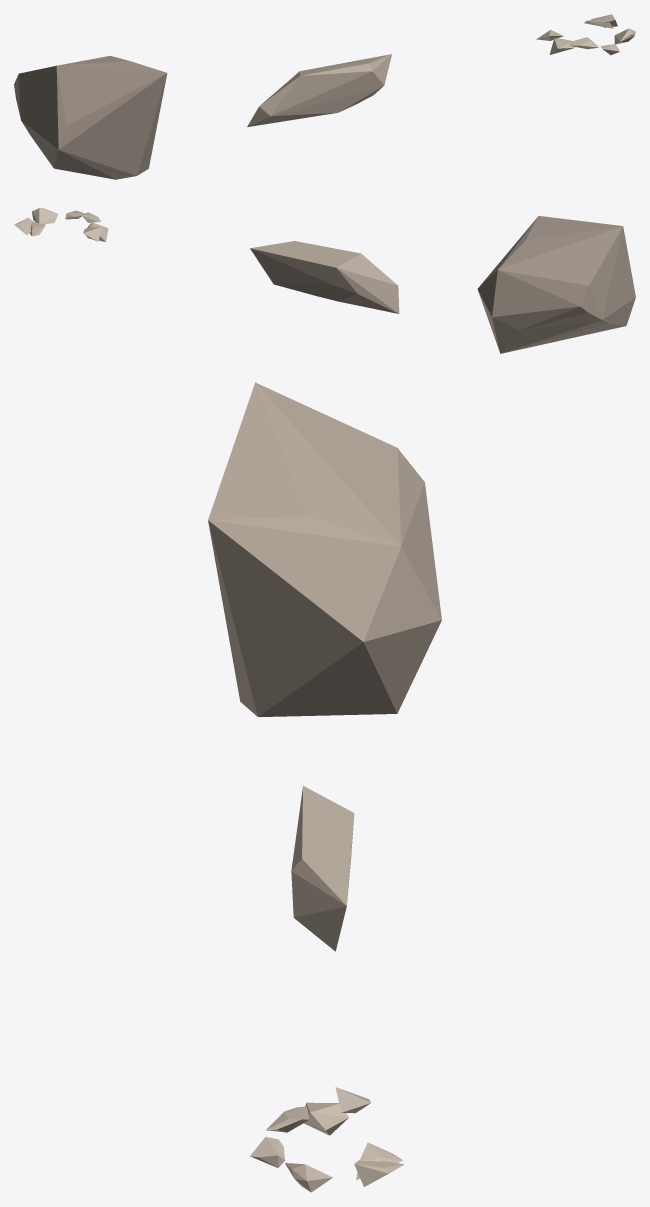
Rendered from RockKitR1.fbx.
3 views of the same model, one above another, from view 1: azimuth 30°, elevation 25°; view 2: azimuth 150°, elevation 25°; view 3: azimuth 270°, elevation 25° (orthographic). The views are drawn at different scales.
Parts seen in each view (by area): view 1: Cliff_A, Ridge_B, Talus_C; view 2: Cliff_A, Ridge_B, Talus_C; view 3: Cliff_A, Ridge_B, Talus_C.
Boxes of the visible parts, bbox=[...] form: Cliff_A: bbox=[14, 55, 167, 179]; Ridge_B: bbox=[247, 54, 391, 126]; Talus_C: bbox=[536, 14, 635, 55]; Cliff_A: bbox=[477, 216, 635, 353]; Ridge_B: bbox=[250, 241, 399, 313]; Talus_C: bbox=[14, 208, 108, 241]; Cliff_A: bbox=[208, 382, 441, 716]; Ridge_B: bbox=[291, 786, 354, 951]; Talus_C: bbox=[250, 1087, 404, 1192].
Size of the model in its own units: 10757 by 2189 by 1862.
